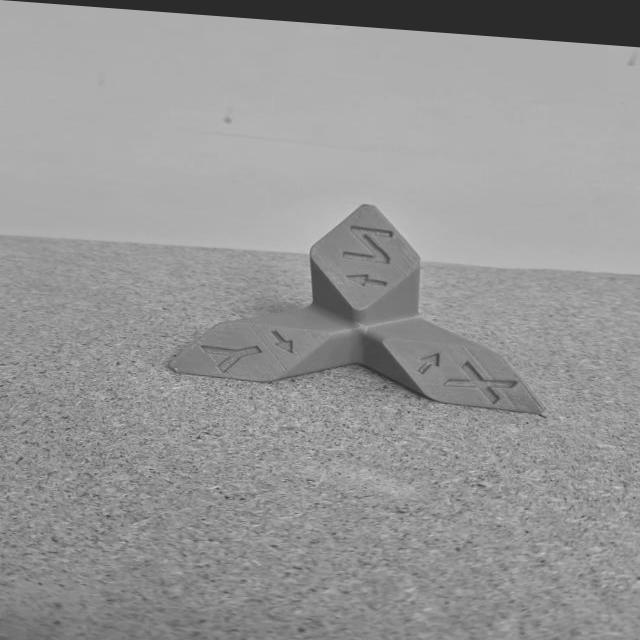eje: (160, 184, 553, 420)
